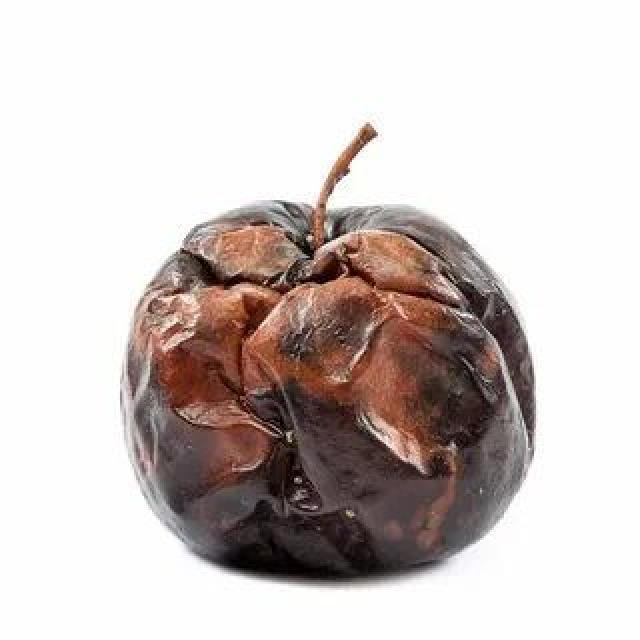Rotten: (133, 207, 547, 583)
